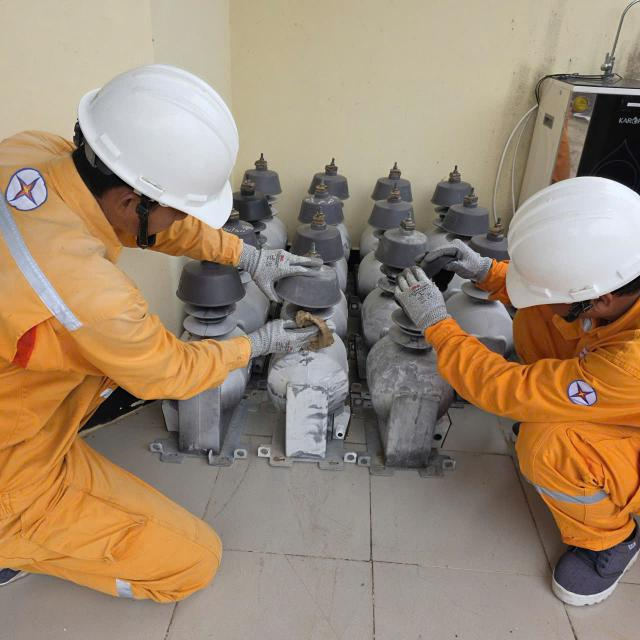gloves: (217, 224, 323, 298), (249, 303, 341, 378), (392, 264, 465, 349), (431, 235, 518, 293)
helmet: (74, 50, 260, 242), (480, 153, 640, 322)
shoes: (520, 487, 640, 611)
